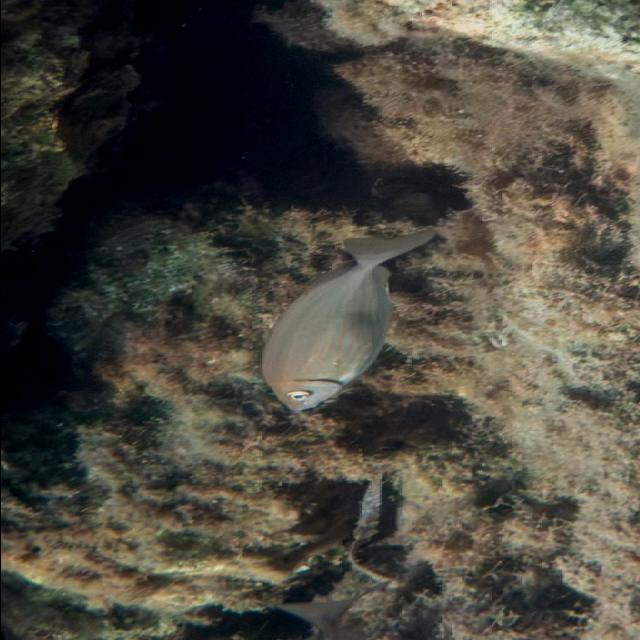Sokar Baligi: (245, 222, 446, 416)
